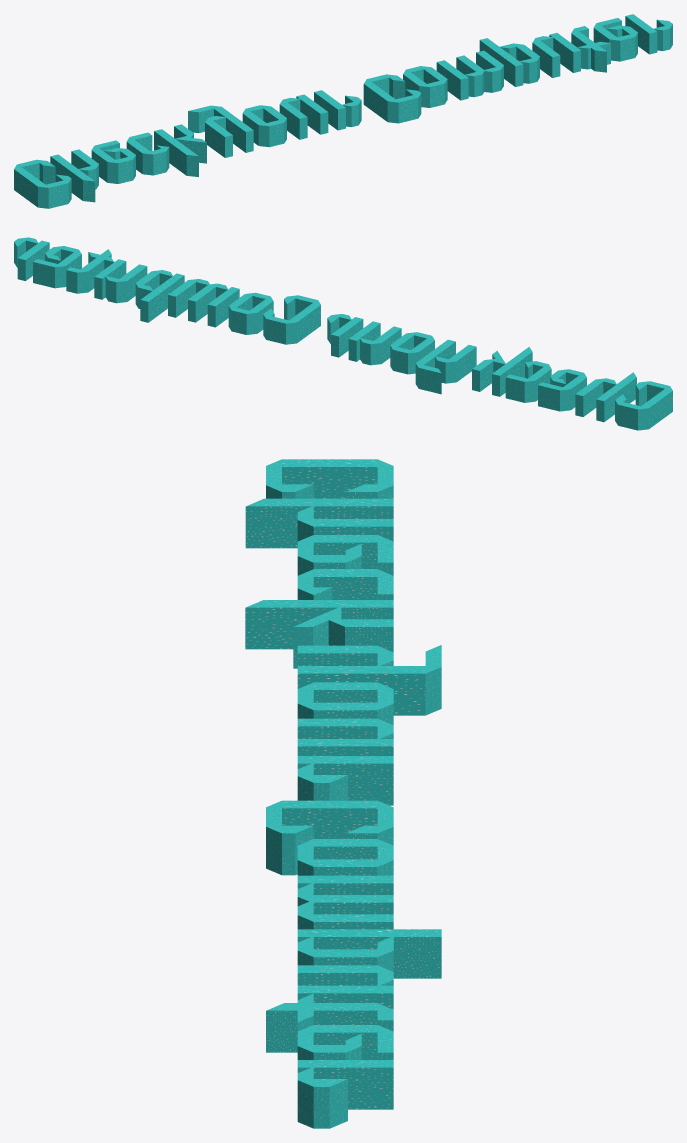
Rendered from CheckYourComputerModel.obj.
3 views of the same model, one above another, from view 1: azimuth 30°, elevation 25°; view 2: azimuth 150°, elevation 25°; view 3: azimuth 270°, elevation 25° (orthographic). The views are drawn at different scales.
Parts seen in each view (by area): view 1: Object.1; view 2: Object.1; view 3: Object.1.
Boxes of the visible parts, left/top/right/bottom form: Object.1: left=14, top=14, right=672, bottom=208; Object.1: left=14, top=237, right=672, bottom=430; Object.1: left=245, top=459, right=441, bottom=1128.
Size of the model in its own units: 803 by 25 by 106.
